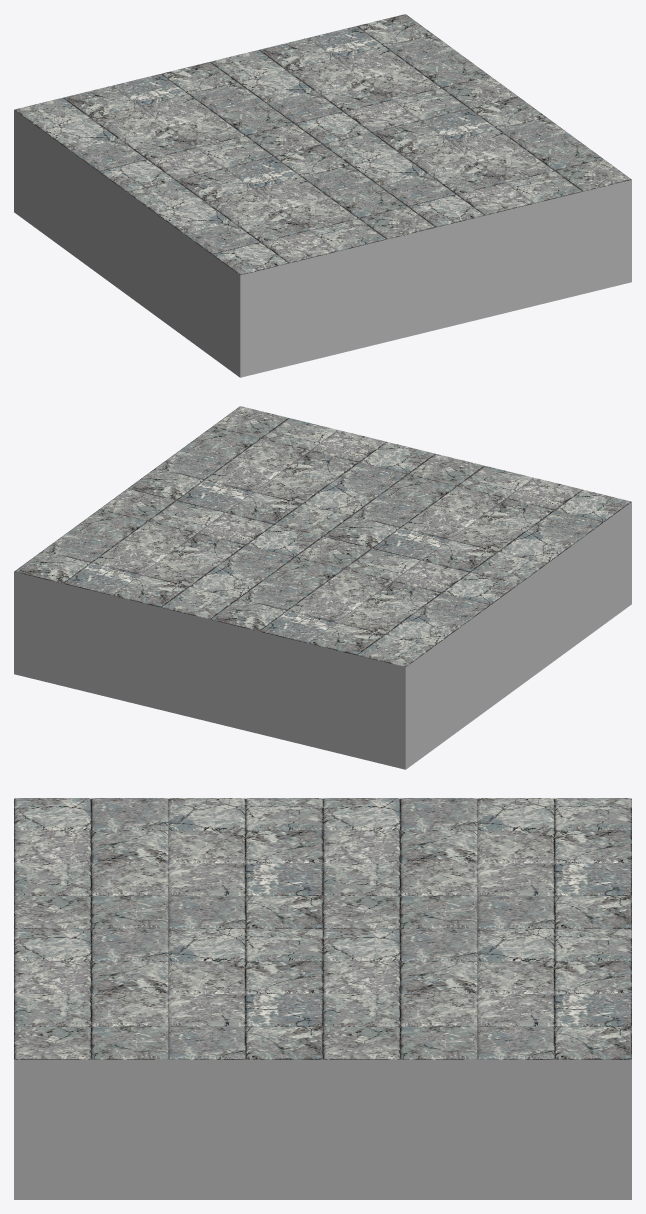
The model's file is Floor_2m.gltf.
3 views of the same model, one above another, from view 1: azimuth 30°, elevation 25°; view 2: azimuth 150°, elevation 25°; view 3: azimuth 270°, elevation 25° (orthographic). The views are drawn at different scales.
Visible parts, largest first — view 1: Floor_2m; view 2: Floor_2m; view 3: Floor_2m.
Part boxes in pixels (x1,y1,x2,y2): Floor_2m: (14, 14, 631, 377); Floor_2m: (14, 406, 631, 769); Floor_2m: (14, 798, 631, 1199).
Size of the model in its own units: 8 by 2.03 by 8.
